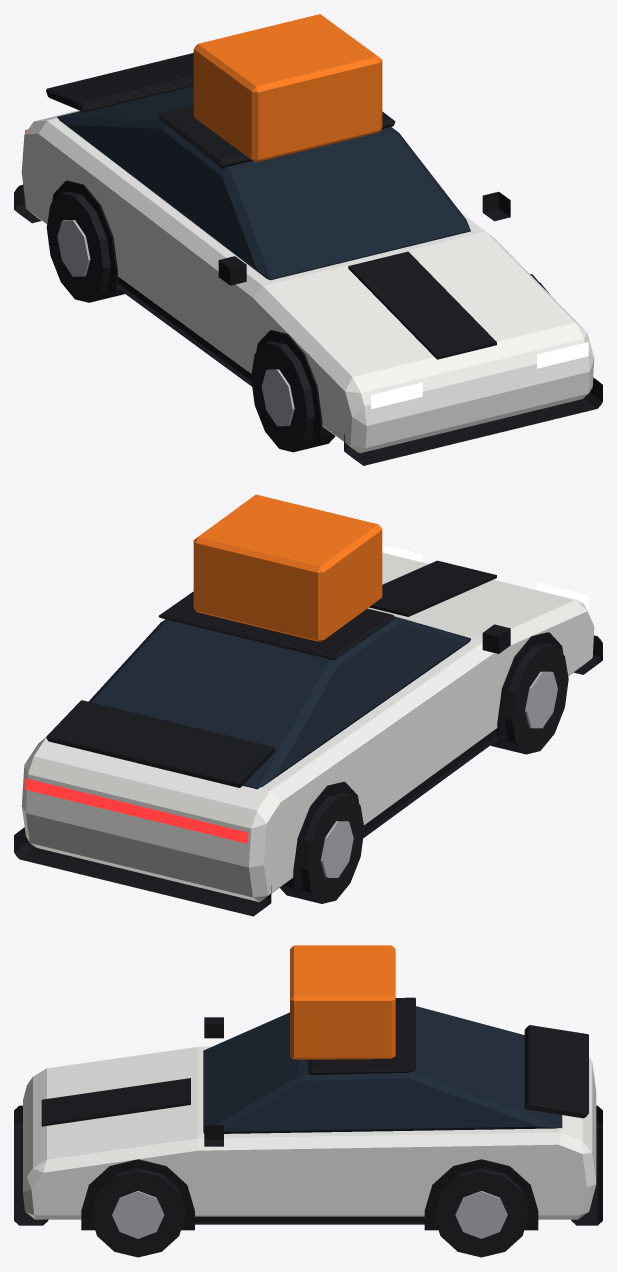
The model's file is liftback.glb.
3 views of the same model, one above another, from view 1: azimuth 30°, elevation 25°; view 2: azimuth 150°, elevation 25°; view 3: azimuth 270°, elevation 25° (orthographic). The views are drawn at different scales.
Parts seen in each view (by area): view 1: tub, glasshouse, bag, stripe, spoiler, wheel_FL, wheel_RL, bumper_f, roof, rocker_-1, wheel_FL_hub, wheel_RL_hub (+6 smaller); view 2: tub, glasshouse, bag, spoiler, roof, bumper_r, wheel_RL, wheel_FL, stripe, lamp_tail_bar, rocker_-1, wheel_FL_hub (+4 smaller); view 3: tub, glasshouse, bag, spoiler, wheel_FR, wheel_RR, stripe, roof, rocker_1, arch_-1.3_1, arch_+1.3_1, wheel_RR_hub (+5 smaller).
Boxes of the visible parts, x1=… form: tub: x1=21, y1=110, x2=594, y2=453; glasshouse: x1=57, y1=86, x2=470, y2=280; bag: x1=193, y1=14, x2=382, y2=162; stripe: x1=348, y1=251, x2=496, y2=359; spoiler: x1=46, y1=53, x2=193, y2=112; wheel_FL: x1=251, y1=341, x2=335, y2=452; wheel_RL: x1=46, y1=191, x2=124, y2=302; bumper_f: x1=344, y1=376, x2=602, y2=465; roof: x1=159, y1=105, x2=395, y2=167; rocker_-1: x1=108, y1=276, x2=252, y2=386; wheel_FL_hub: x1=261, y1=369, x2=294, y2=426; wheel_RL_hub: x1=57, y1=220, x2=90, y2=276; tub: x1=21, y1=552, x2=594, y2=902; glasshouse: x1=88, y1=616, x2=470, y2=789; bag: x1=193, y1=494, x2=382, y2=641; spoiler: x1=46, y1=700, x2=275, y2=787; roof: x1=159, y1=591, x2=394, y2=659; bumper_r: x1=14, y1=827, x2=271, y2=916; wheel_RL: x1=280, y1=792, x2=364, y2=903; wheel_FL: x1=491, y1=643, x2=568, y2=754; stripe: x1=369, y1=560, x2=496, y2=616; lamp_tail_bar: x1=25, y1=778, x2=247, y2=843; rocker_-1: x1=363, y1=728, x2=507, y2=837; wheel_FL_hub: x1=525, y1=671, x2=557, y2=728; tub: x1=23, y1=1046, x2=596, y2=1219; glasshouse: x1=203, y1=1006, x2=562, y2=1133; bag: x1=290, y1=945, x2=395, y2=1059; spoiler: x1=524, y1=1025, x2=588, y2=1118; wheel_FR: x1=90, y1=1168, x2=185, y2=1257; wheel_RR: x1=434, y1=1168, x2=528, y2=1257; stripe: x1=41, y1=1078, x2=190, y2=1126; roof: x1=308, y1=997, x2=415, y2=1074; rocker_1: x1=183, y1=1216, x2=436, y2=1224; arch_-1.3_1: x1=424, y1=1159, x2=538, y2=1230; arch_+1.3_1: x1=81, y1=1159, x2=194, y2=1230; wheel_RR_hub: x1=455, y1=1191, x2=507, y2=1238.
Bounding box in the file's own units: 2.06 × 1.95 × 4.46.
